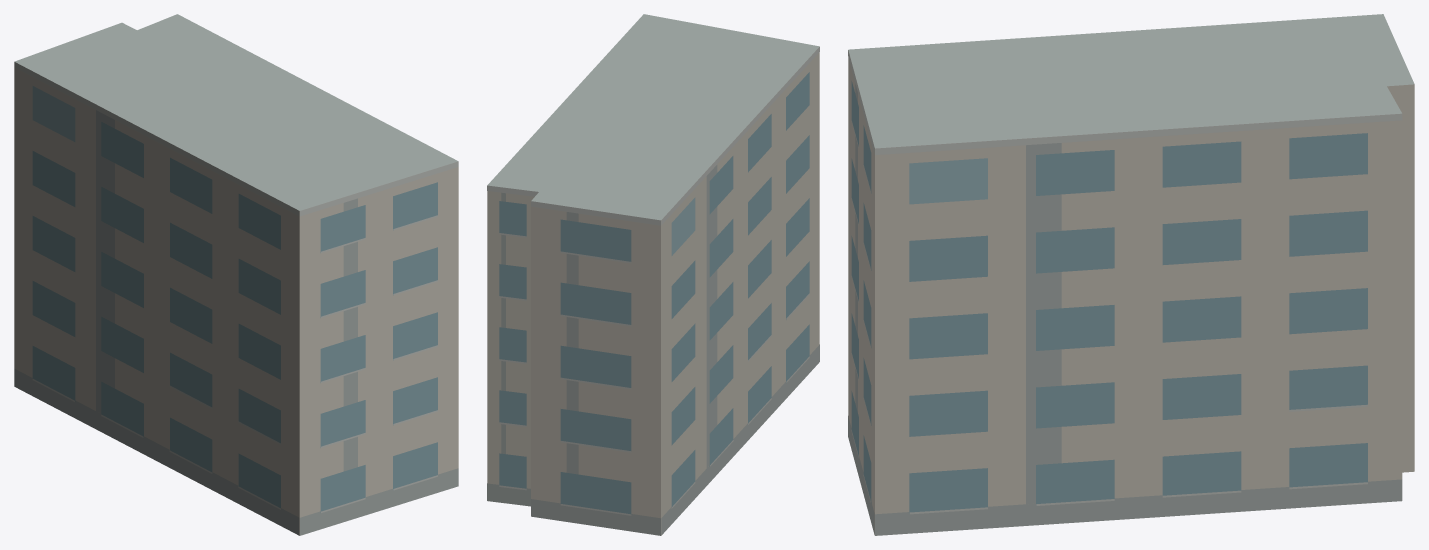
Rendered from survey-upis-32729386.glb.
3 renders of one model, left to right at view 1: azimuth 30°, elevation 25°; view 2: azimuth 150°, elevation 25°; view 3: azimuth 270°, elevation 25°, orthographic. The views are drawn at different scales.
Visible parts, largest first — view 1: survey-upis-32729386.tmp; view 2: survey-upis-32729386.tmp; view 3: survey-upis-32729386.tmp.
Boxes of the visible parts, <box> form: survey-upis-32729386.tmp: <box>14,14,458,535</box>; survey-upis-32729386.tmp: <box>487,14,819,535</box>; survey-upis-32729386.tmp: <box>848,14,1414,535</box>.
Bounding box in the file's own units: 10.55 × 14.15 × 18.76.
